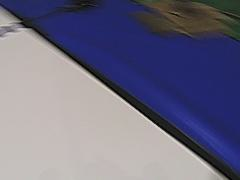CrossWalk: (1, 20, 31, 39)
